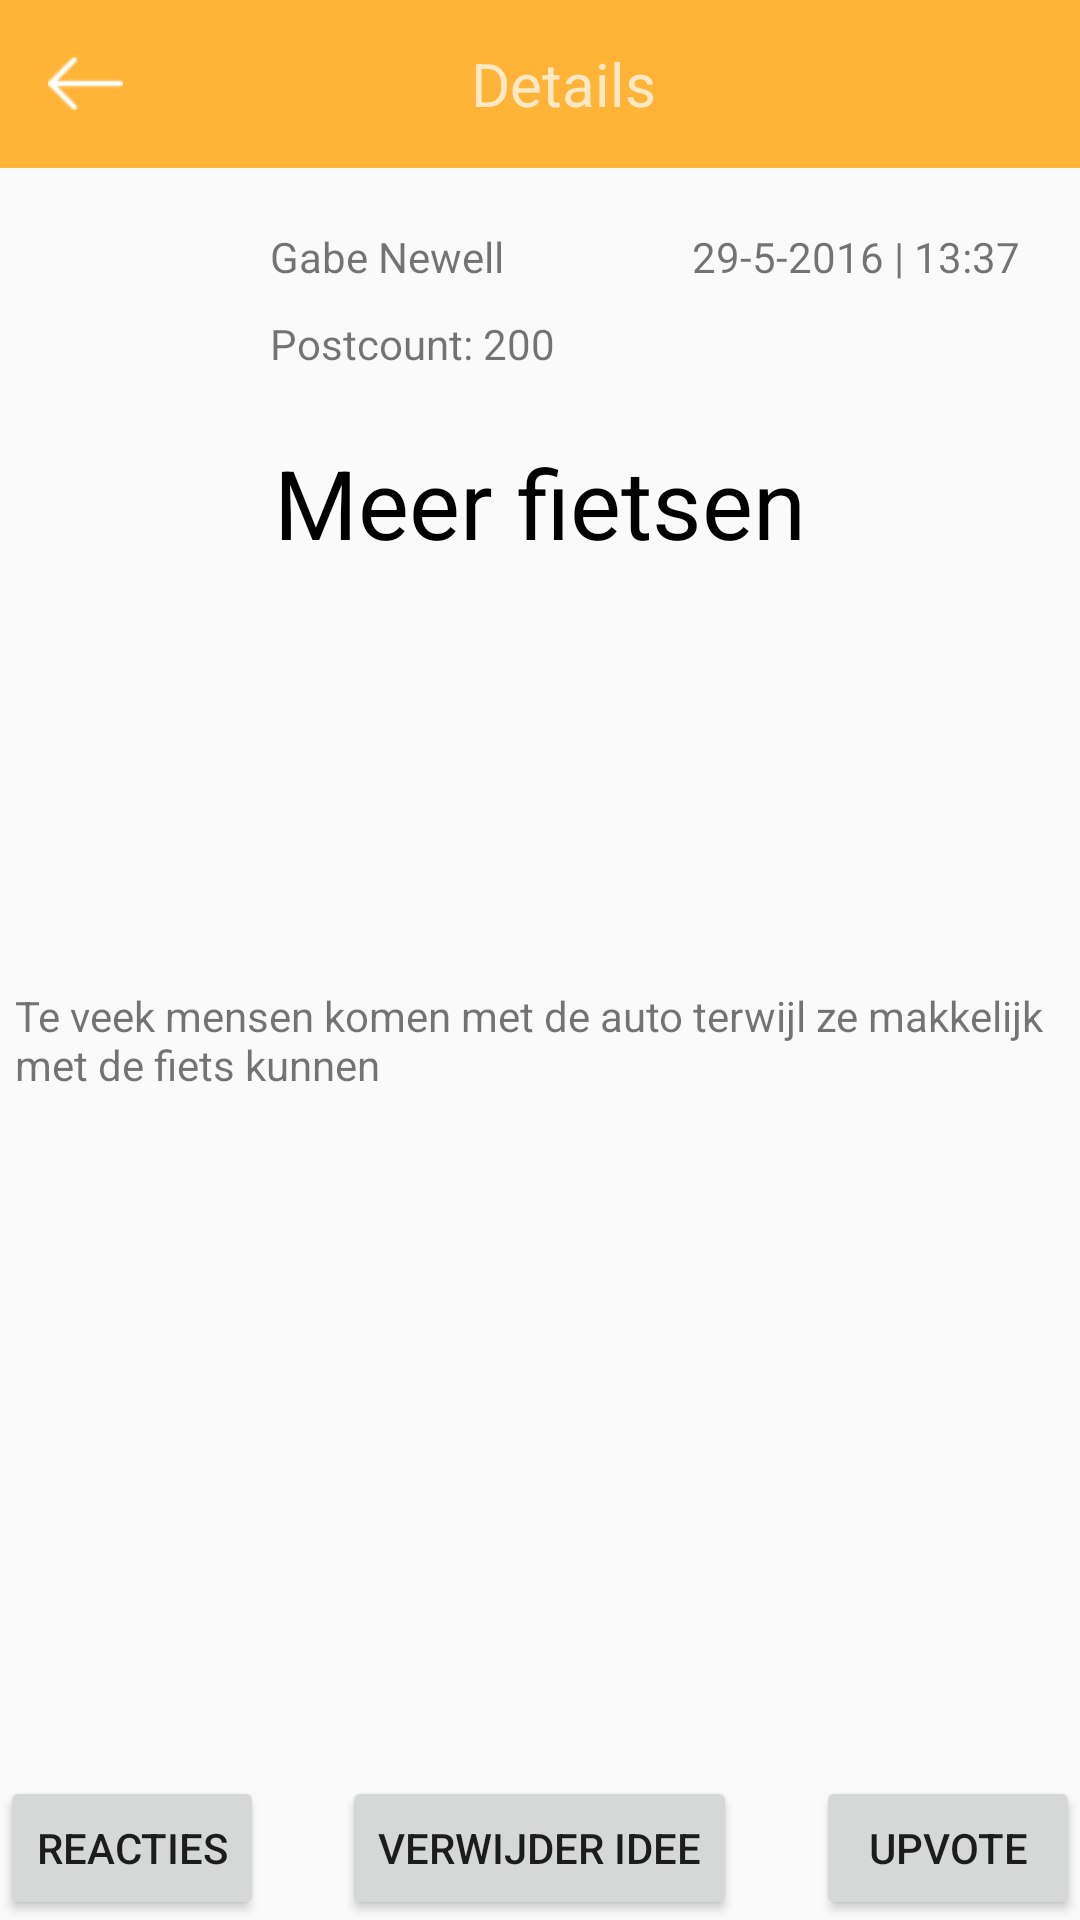

Icons on this 1080×1920 Android screen, each with the point to tap as point (x, y):
back: point (85, 83)
